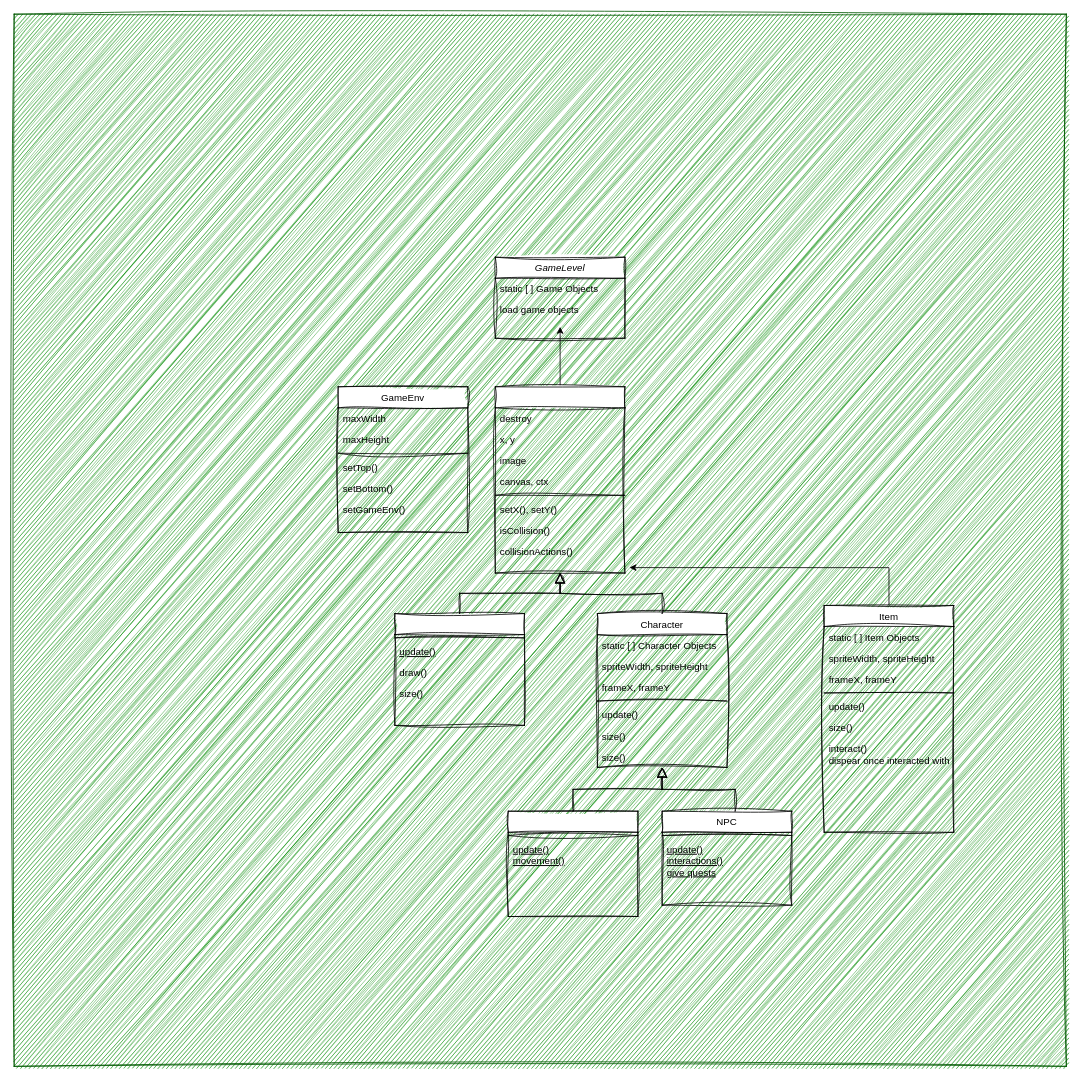
This 1081x1081 diagram has some shape labels left out. Each missing label, with the box of its shape:
Background: (394, 613, 524, 725)
GameObject: (495, 386, 625, 573)
Player: (507, 810, 638, 917)
